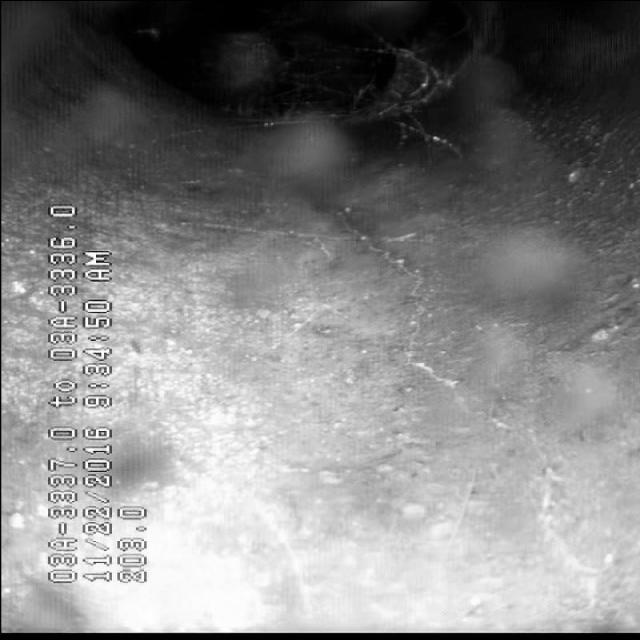Crack: (318, 228, 608, 522)
